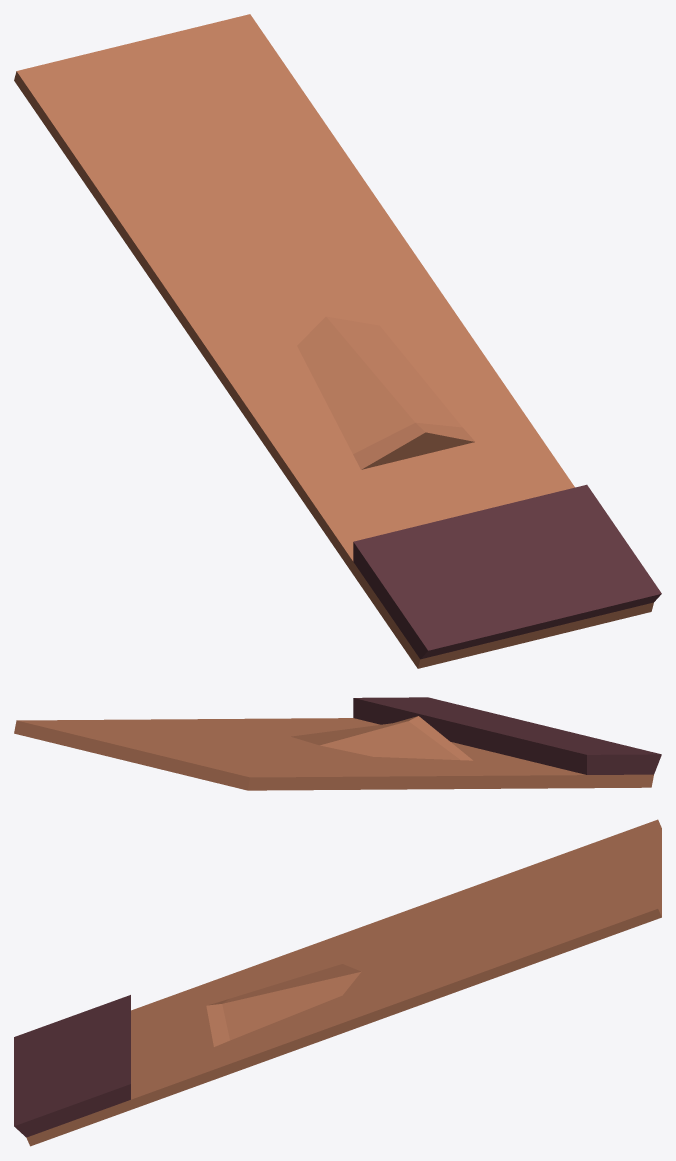
Rendered from empire-roof-acroterion-platform-r-big-1m-empire.glb.
3 renders of one model, top to bottom at view 1: azimuth 30°, elevation 25°; view 2: azimuth 150°, elevation 25°; view 3: azimuth 270°, elevation 25°, orthographic. The views are drawn at different scales.
Visible parts, largest first — view 1: SM_Roof_Acroterion_Platform_R_Big_1m_Empire; view 2: SM_Roof_Acroterion_Platform_R_Big_1m_Empire; view 3: SM_Roof_Acroterion_Platform_R_Big_1m_Empire.
Part boxes in pixels (x1,y1,x2,y2): SM_Roof_Acroterion_Platform_R_Big_1m_Empire: [14, 14, 661, 668]; SM_Roof_Acroterion_Platform_R_Big_1m_Empire: [14, 697, 661, 790]; SM_Roof_Acroterion_Platform_R_Big_1m_Empire: [14, 819, 661, 1146].
Bounding box in the file's own units: 1 × 1.25 × 3.08.
